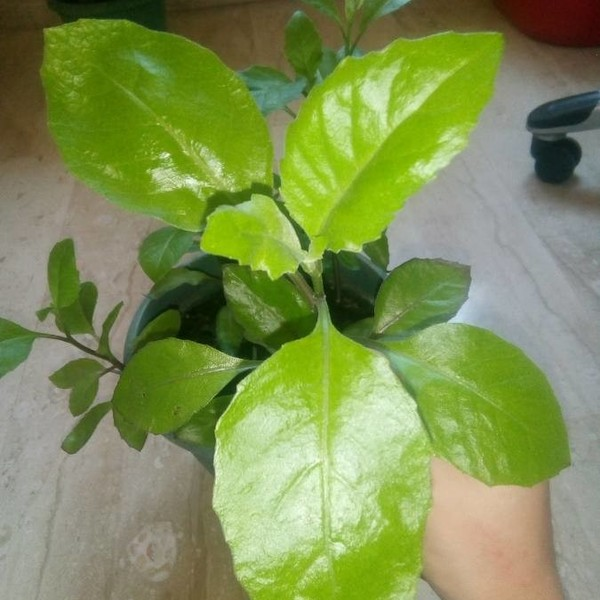obstacle: (11, 24, 555, 571)
